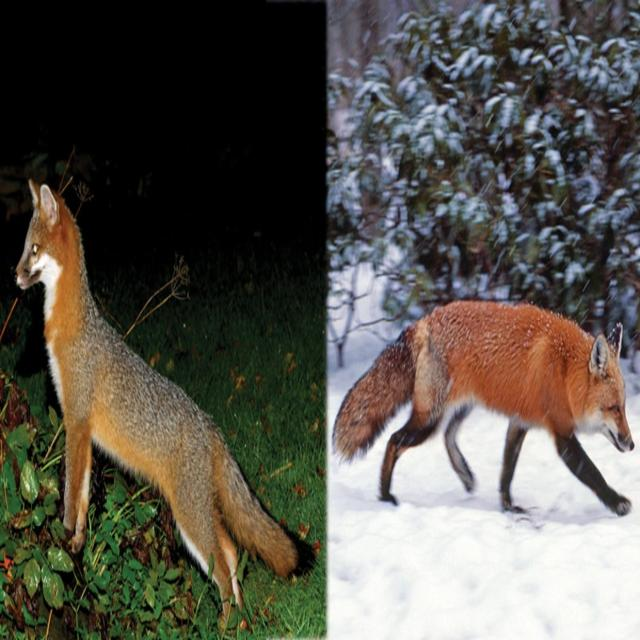fox: (13, 176, 313, 627), (331, 297, 635, 518)
